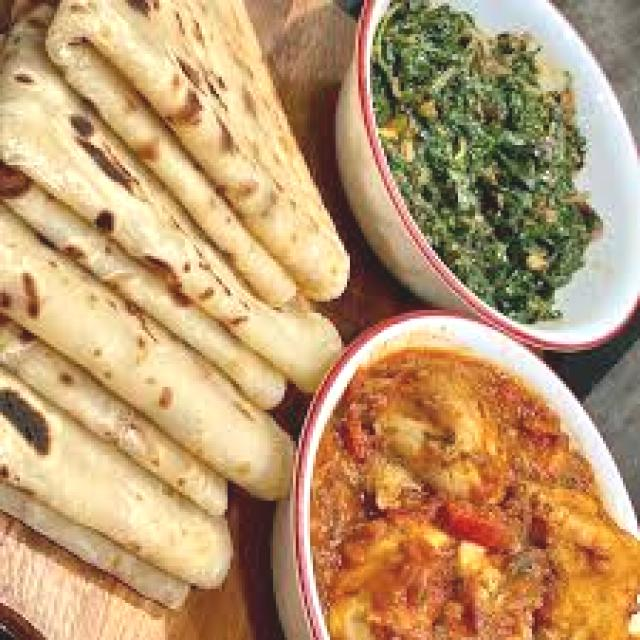chapathi: (3, 3, 294, 612)
